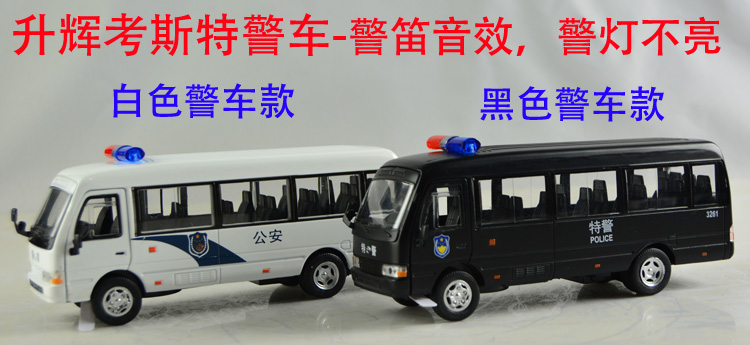Car: (8, 139, 408, 337), (348, 136, 738, 326)
